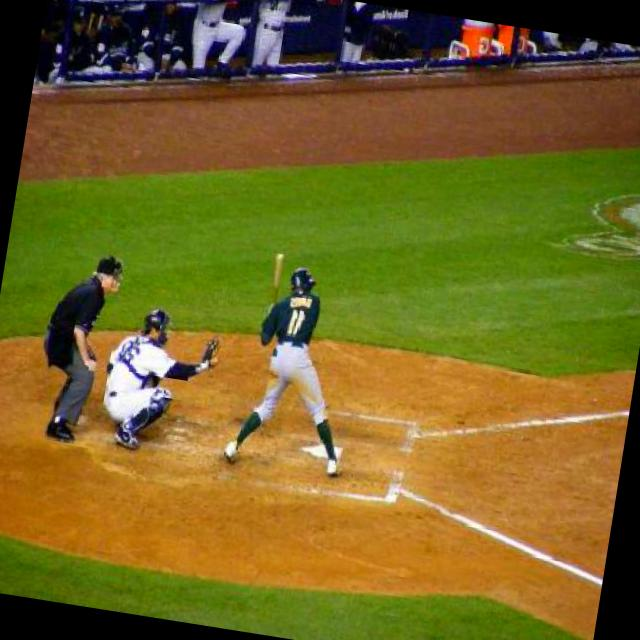Person: (215, 262, 372, 488), (95, 301, 227, 463), (27, 246, 127, 446), (185, 0, 254, 83), (38, 0, 100, 90), (134, 0, 199, 78), (89, 0, 143, 77), (249, 0, 294, 71), (336, 0, 382, 68)
